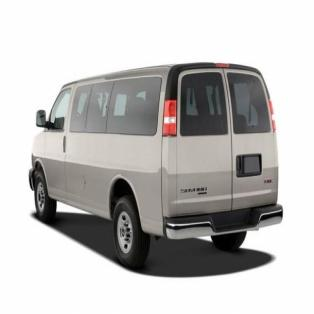Auto: (30, 63, 283, 268)
